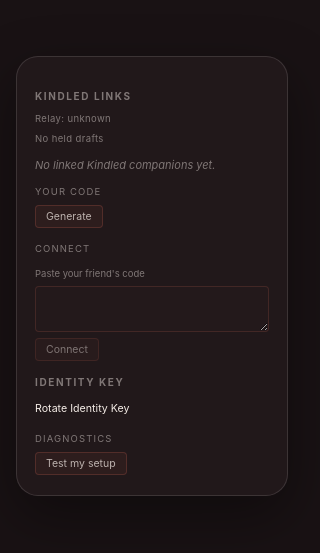
Scenario: KindledLinksPanel — self-test section › shows inline error when runKindledSelfTest throws
The width and height of the screenshot is (320, 553).
Click the button "Test my setup" at (81, 463), box [35,452,127,475]
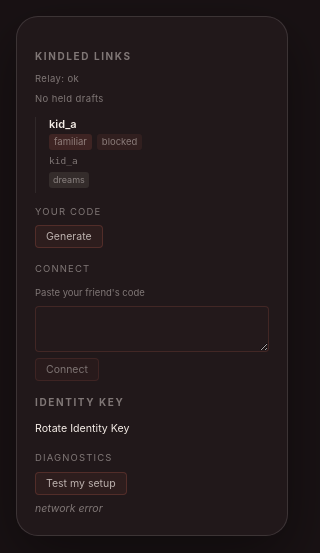
Expected: the text "network error" is shown, [35,502,103,515]
